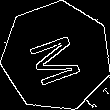M_E: (25, 26, 88, 87)
